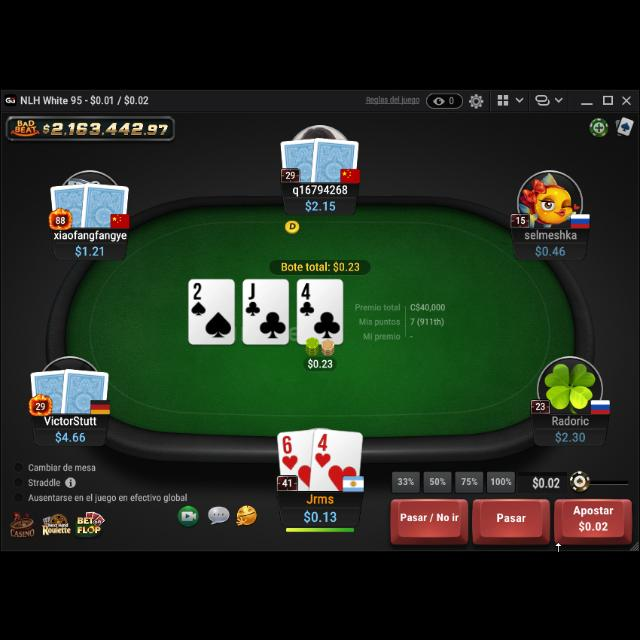2s: (190, 280, 208, 314)
4c: (298, 278, 316, 316)
6h: (281, 433, 299, 471)
7h: (314, 429, 332, 467)
Jc: (244, 280, 262, 316)
bet_text: (308, 354, 334, 368)
card_back: (310, 132, 360, 182), (80, 177, 130, 227), (61, 363, 111, 412), (48, 181, 92, 231), (278, 134, 322, 182), (29, 366, 71, 414)
dealer: (284, 218, 300, 236)
hero_active: (387, 493, 635, 545)
pot_text: (282, 260, 362, 272)
stack_text: (304, 504, 338, 522), (554, 426, 586, 442), (534, 240, 566, 254), (304, 198, 336, 212), (74, 241, 105, 255), (54, 428, 86, 440)
